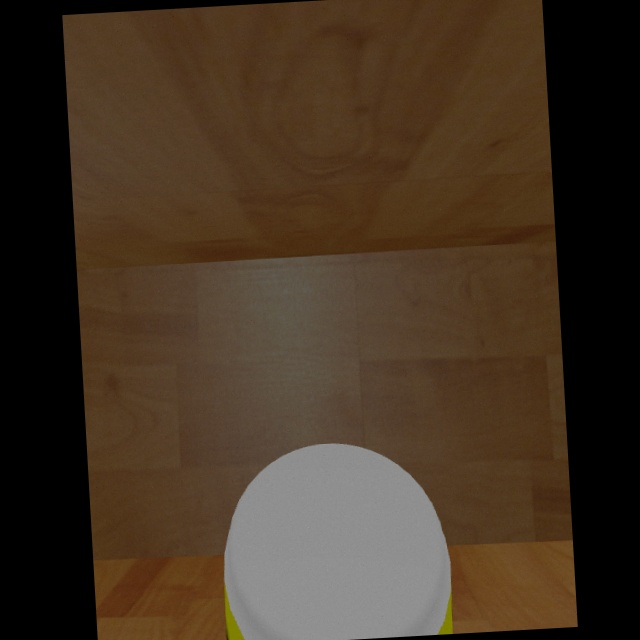chipsdose_gelb: (224, 443, 453, 640)
